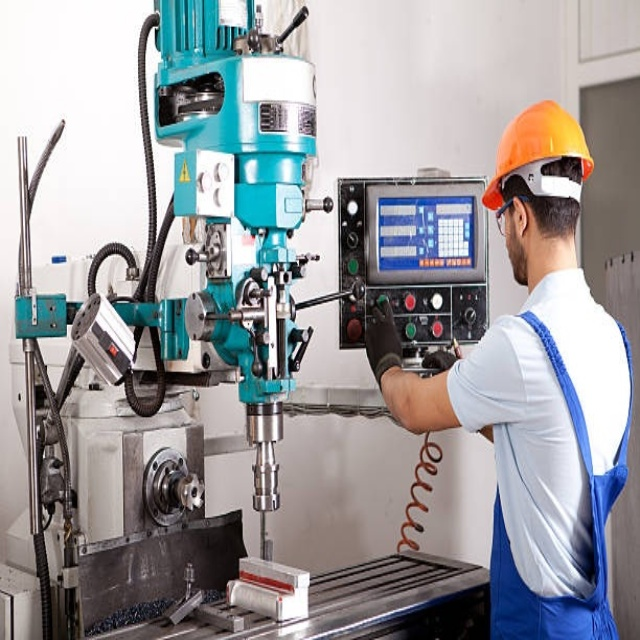Gafas: (493, 191, 531, 240)
Guantes: (362, 295, 406, 386)
